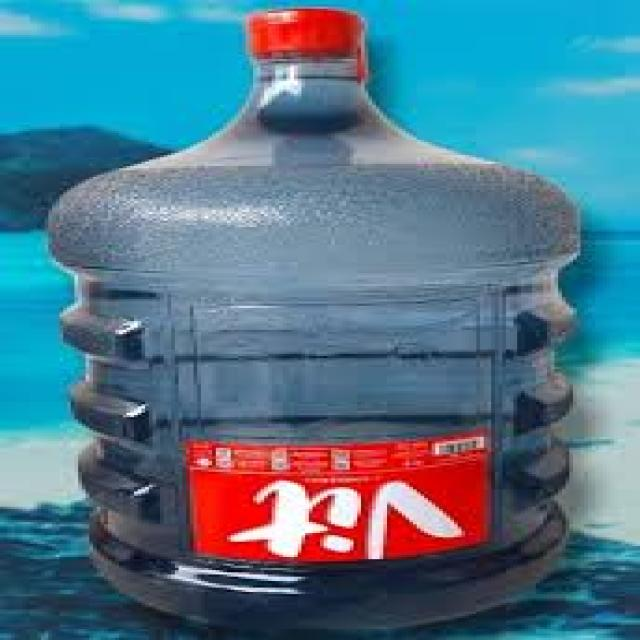Galon: (41, 4, 584, 634)
